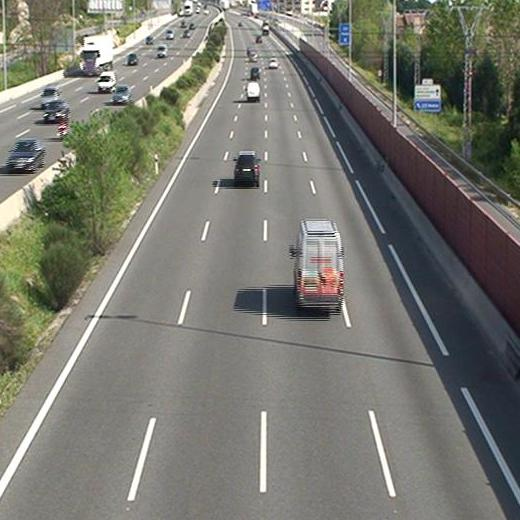car: (233, 150, 259, 184), (250, 67, 261, 78), (248, 52, 256, 62), (269, 57, 277, 67)
van: (293, 220, 343, 307), (246, 82, 260, 100)
